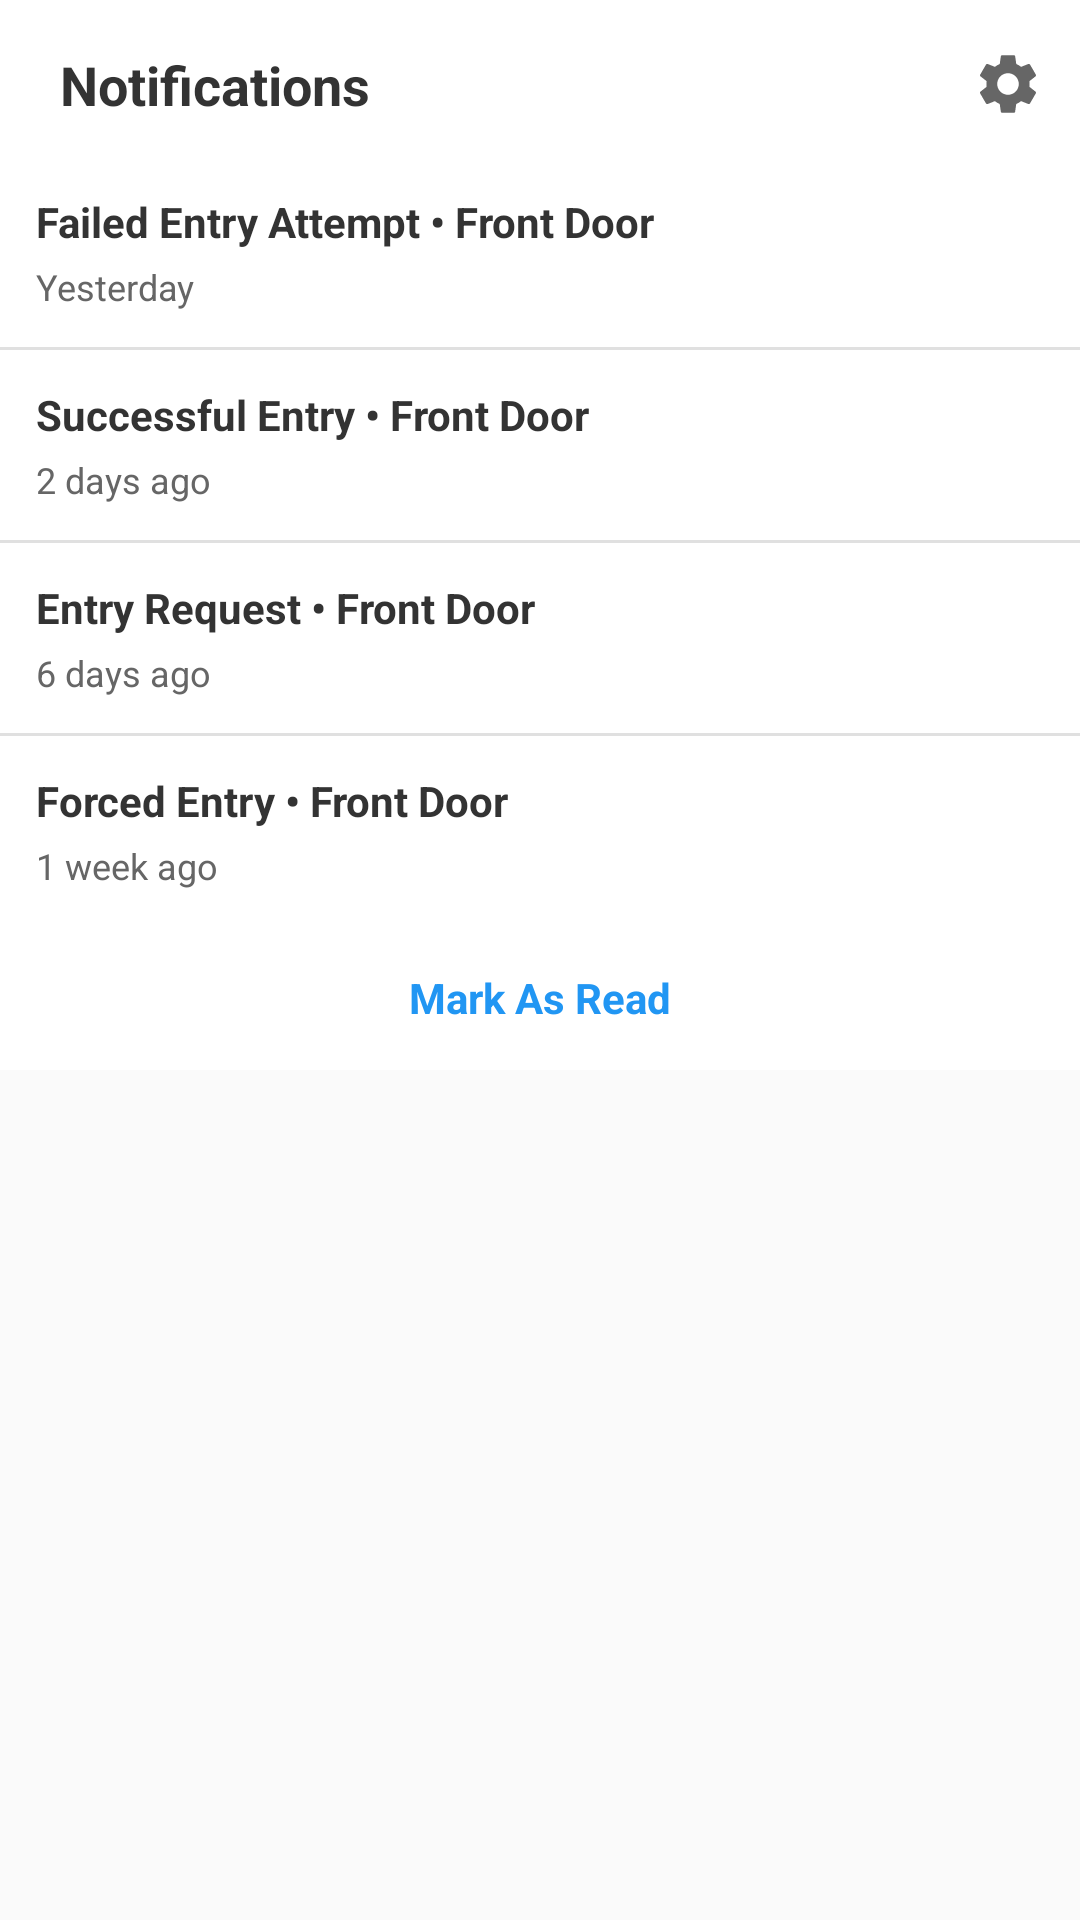

Screen size 1080 × 1920. Icon name, then its center in pixels as [x,y]:
Settings: [1008,84]
